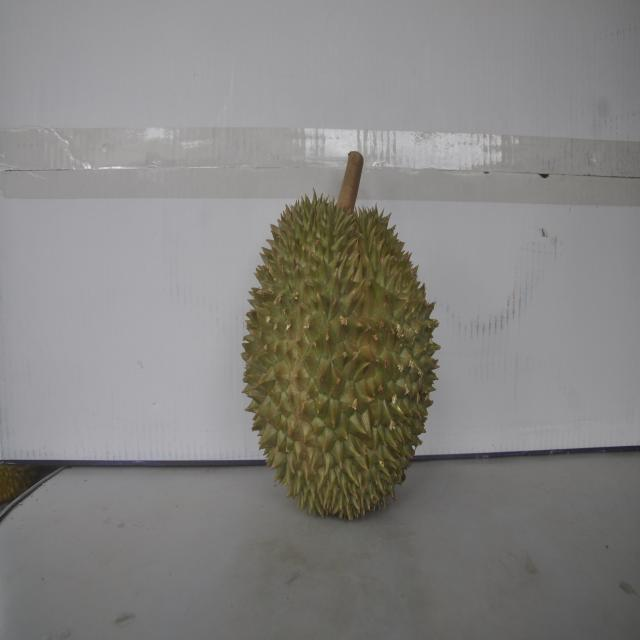mature: (240, 174, 440, 521)
